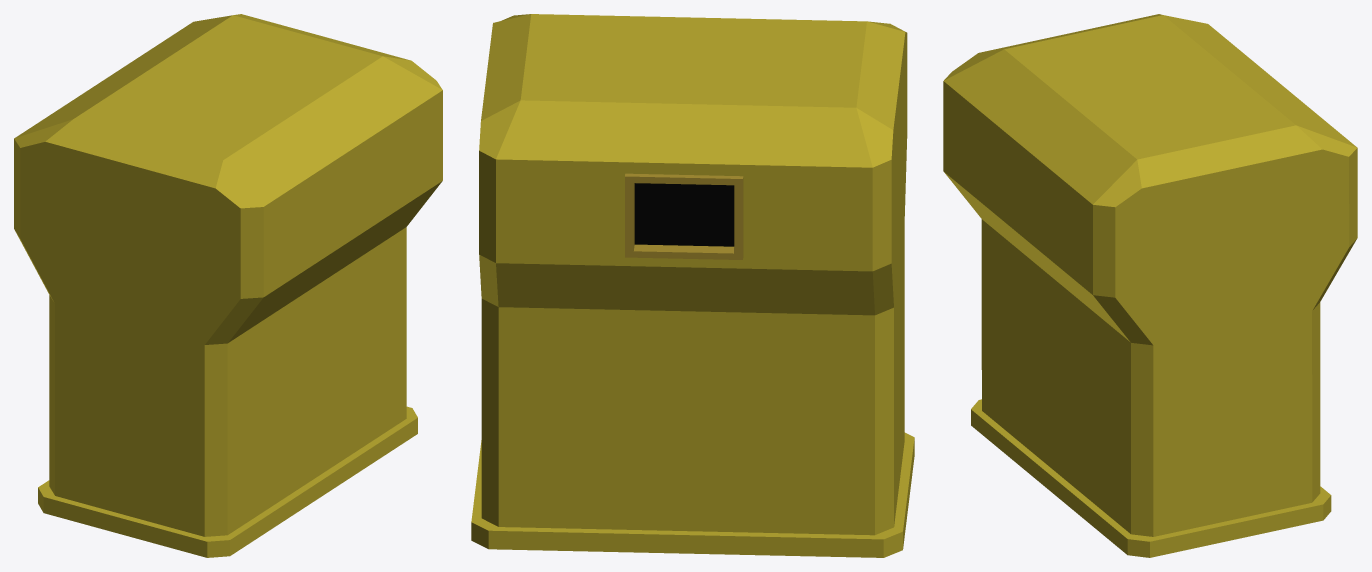
Rendered from Recycle Bin Yellow.fbx.
3 views of the same model, side by side, from view 1: azimuth 30°, elevation 25°; view 2: azimuth 150°, elevation 25°; view 3: azimuth 270°, elevation 25° (orthographic). The views are drawn at different scales.
Parts seen in each view (by area): view 1: Recycle Bin Yellow; view 2: Recycle Bin Yellow; view 3: Recycle Bin Yellow.
Part boxes in pixels (x1,y1,x2,y2): Recycle Bin Yellow: (14, 14, 442, 557); Recycle Bin Yellow: (471, 14, 914, 557); Recycle Bin Yellow: (943, 14, 1357, 557).
Bounding box in the file's own units: 282 × 266 × 270.
